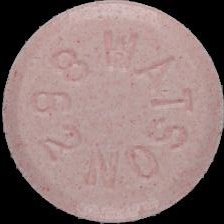0591-0862: (0, 0, 224, 224)
